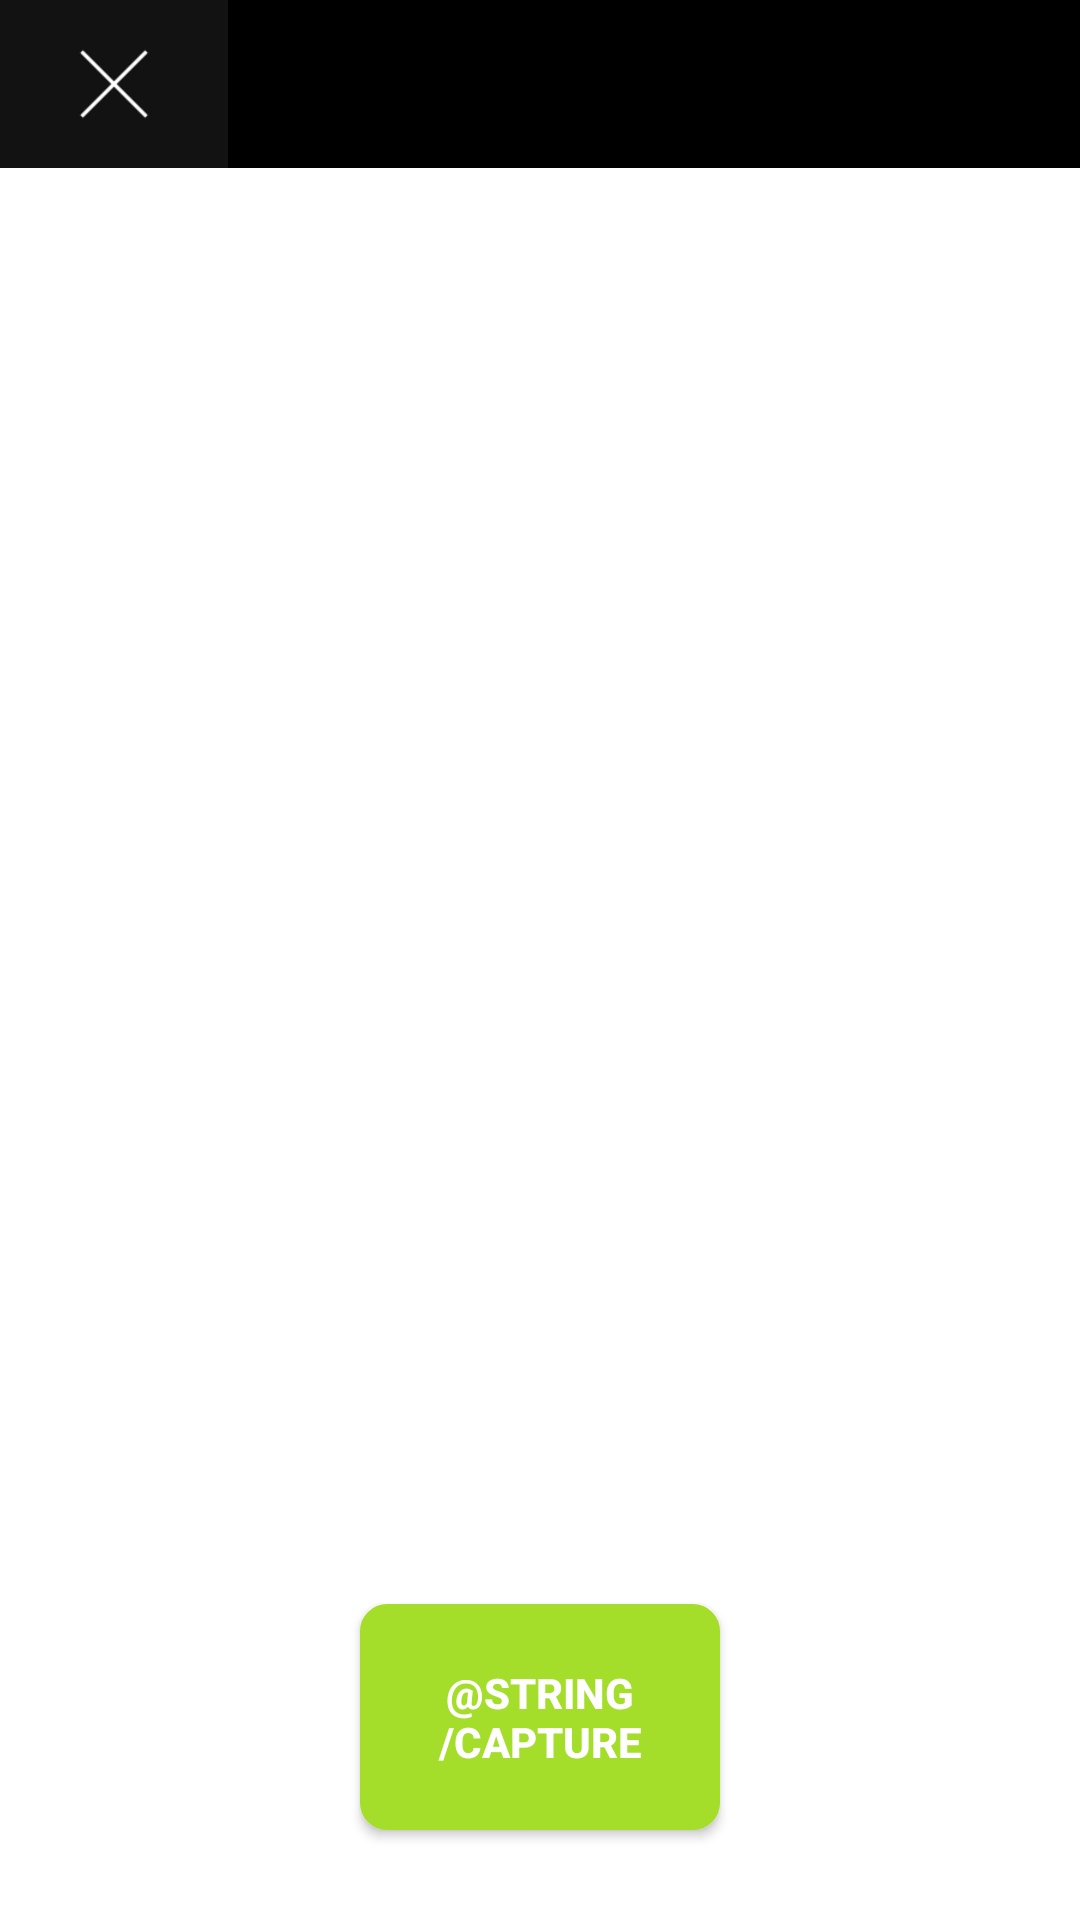

Named icons in this screenshot (1080px x 1920px) and their centers, [x,y]:
cross: [114,84]
